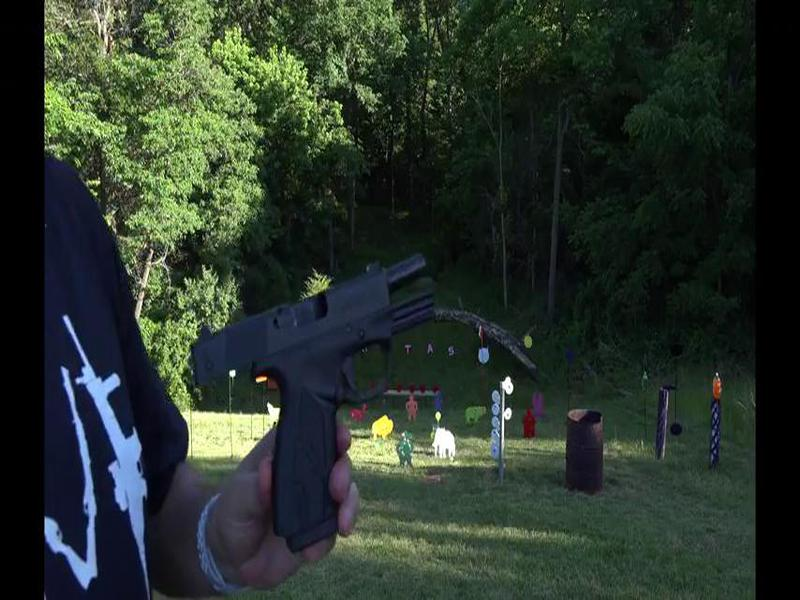Pistola: (191, 254, 452, 544)
